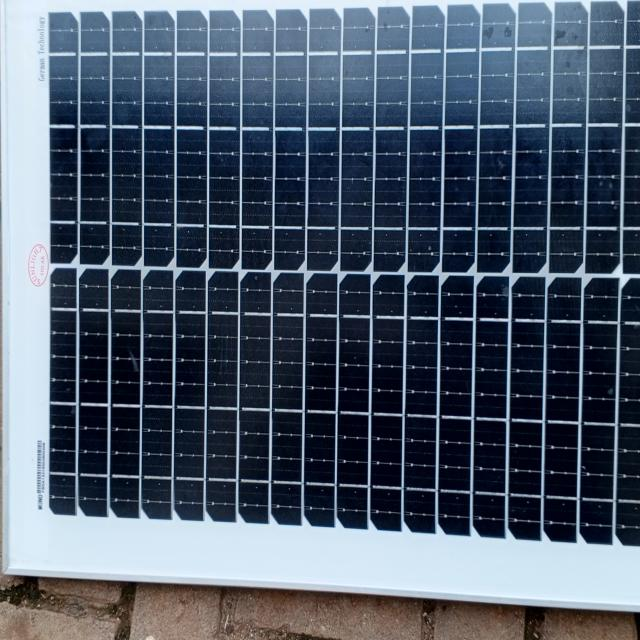Clean: (31, 4, 640, 558)
